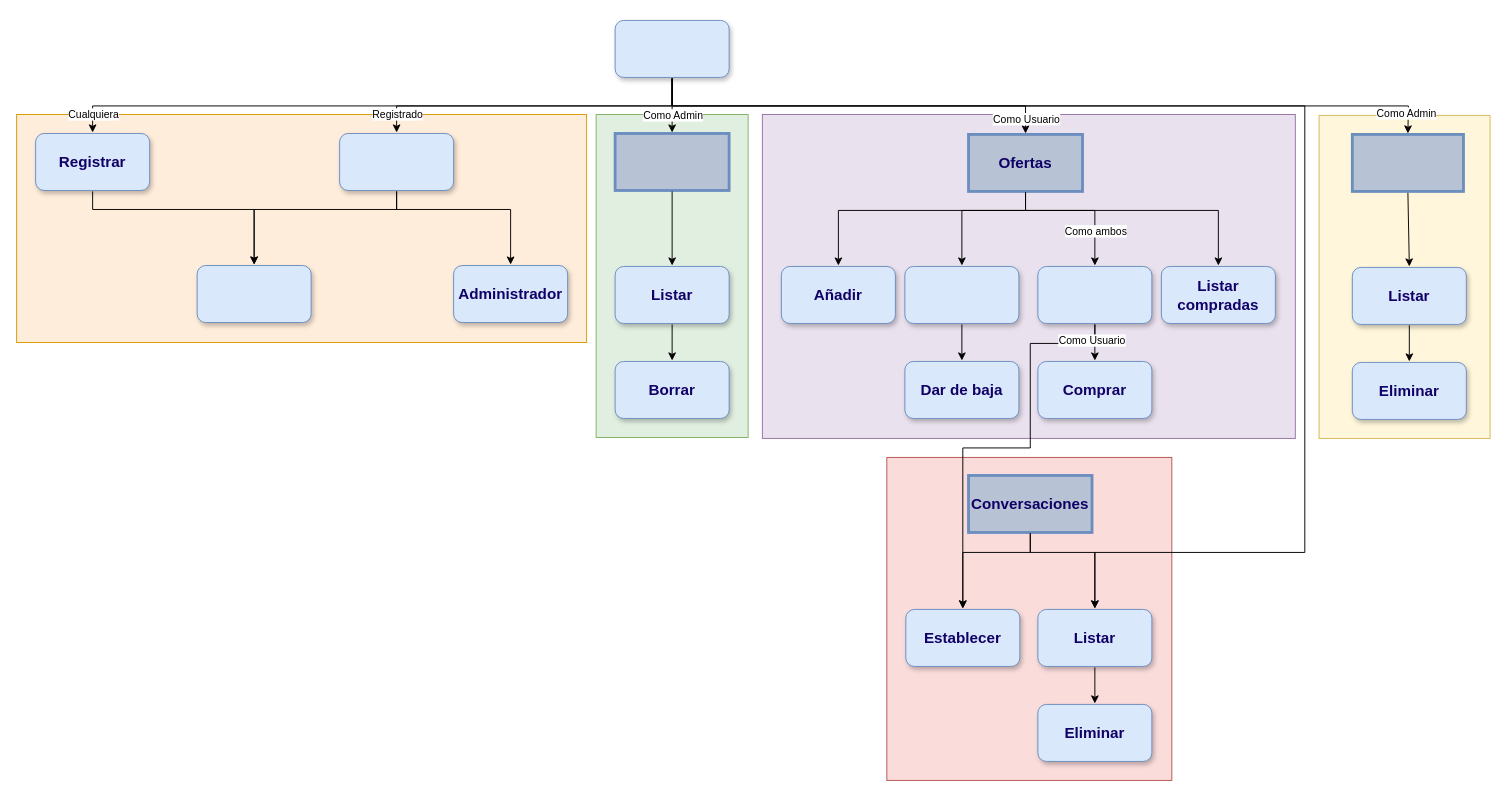
This 1507x797 diagram has some shape labels left out. Here are the shapes that lost their labels. From the top down, the centre of each, then its label:
At (672,50): "Página Principal".
At (397,163): "Iniciar sesión".
At (671,161): "Usuarios".
At (1407,162): "Registro".
At (254,295): "Usuario".
At (962,296): "Listar propias".
At (1095,296): "Buscar".
